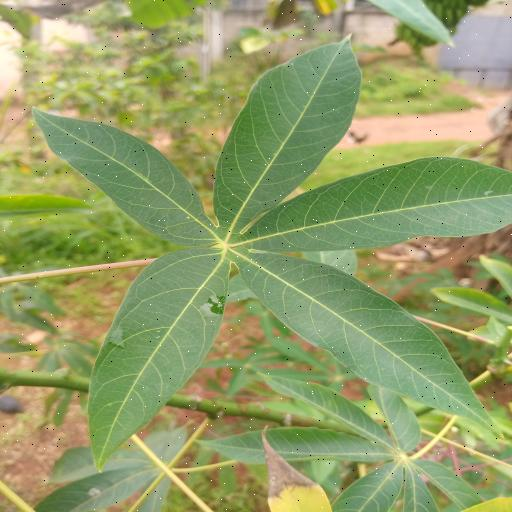Cassava_Healthy: (28, 32, 512, 462)
